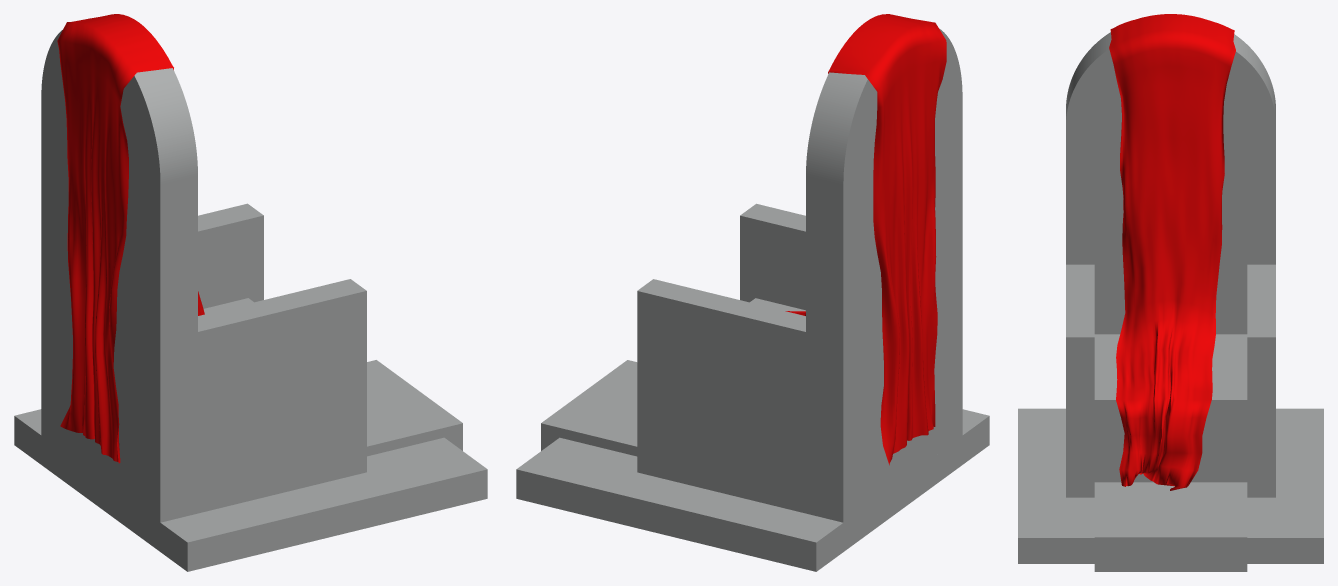
The model's file is 20220511_GAMESPAWN_LINEemUP_THRONE V1.7 flat surface.fbx.
The picture shows the model from 3 angles, left to right: view 1: azimuth 30°, elevation 25°; view 2: azimuth 150°, elevation 25°; view 3: azimuth 270°, elevation 25°; orthographic projection. The views are drawn at different scales.
Parts seen in each view (by area): view 1: Cube.005, Cube.003, Plane, Cube, Cube.002, Cube.001; view 2: Cube.005, Cube.002, Plane, Cube, Cube.003, Cube.001; view 3: Plane, Cube.005, Cube, Cube.001, Cube.004, Cube.002, Cube.003.
Part boxes in pixels (x1,y1,x2,y2): Cube.005: (41,30,197,522); Cube.003: (179,279,366,513); Plane: (57,14,204,463); Cube: (14,409,487,571); Cube.002: (198,203,263,308); Cube.001: (367,360,462,456); Cube.005: (806,28,962,537); Cube.002: (637,279,824,517); Plane: (785,14,946,465); Cube: (516,409,989,571); Cube.003: (740,203,805,310); Cube.001: (541,360,637,456); Plane: (1109,14,1235,490); Cube.005: (1066,32,1275,334); Cube: (1018,408,1323,563); Cube.001: (1094,482,1247,571); Cube.004: (1094,334,1247,482); Cube.002: (1247,264,1275,497); Cube.003: (1066,264,1094,497).
Size of the model in its own units: 1773 by 2432 by 1600.
